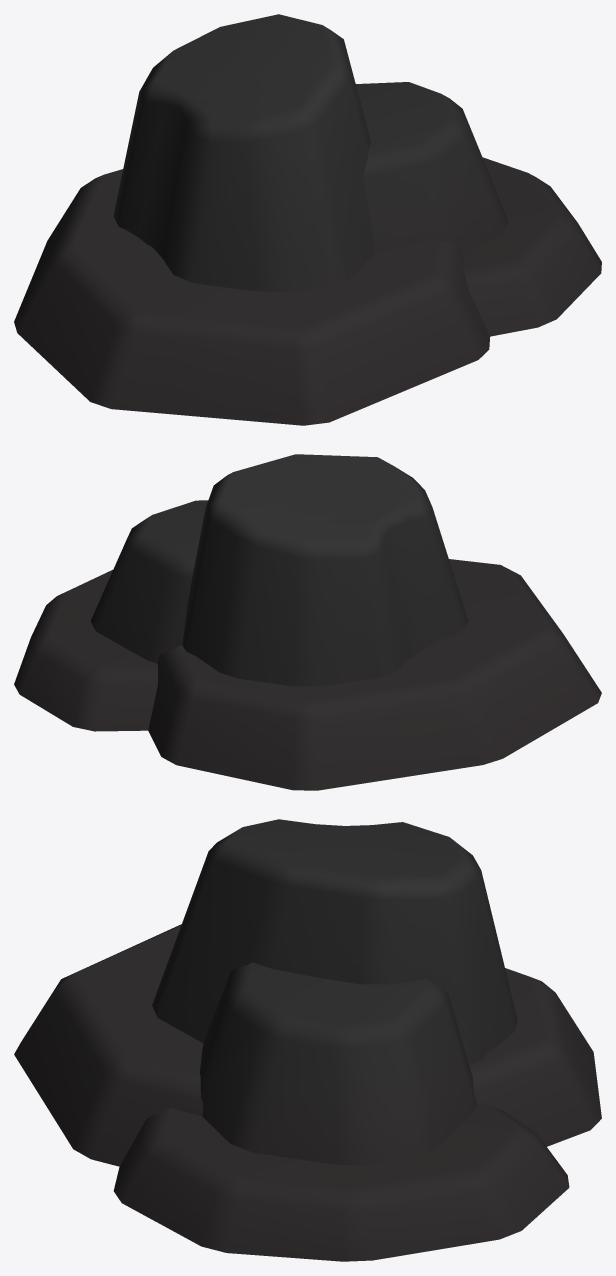
File: inferno-rock-small-002.glb
3 views of the same model, one above another, from view 1: azimuth 30°, elevation 25°; view 2: azimuth 150°, elevation 25°; view 3: azimuth 270°, elevation 25° (orthographic). The views are drawn at different scales.
Visible parts, largest first — view 1: RockSmall_002; view 2: RockSmall_002; view 3: RockSmall_002.
Boxes of the visible parts, <box> form: RockSmall_002: <box>14,14,601,425</box>; RockSmall_002: <box>14,454,601,790</box>; RockSmall_002: <box>14,819,601,1261</box>.
Bounding box in the file's own units: 5 × 2.1 × 4.25.
1 material, 1 textured.
